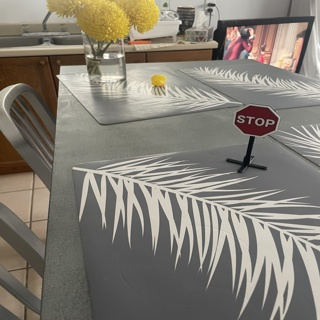sign_stop: (235, 100, 279, 138)
